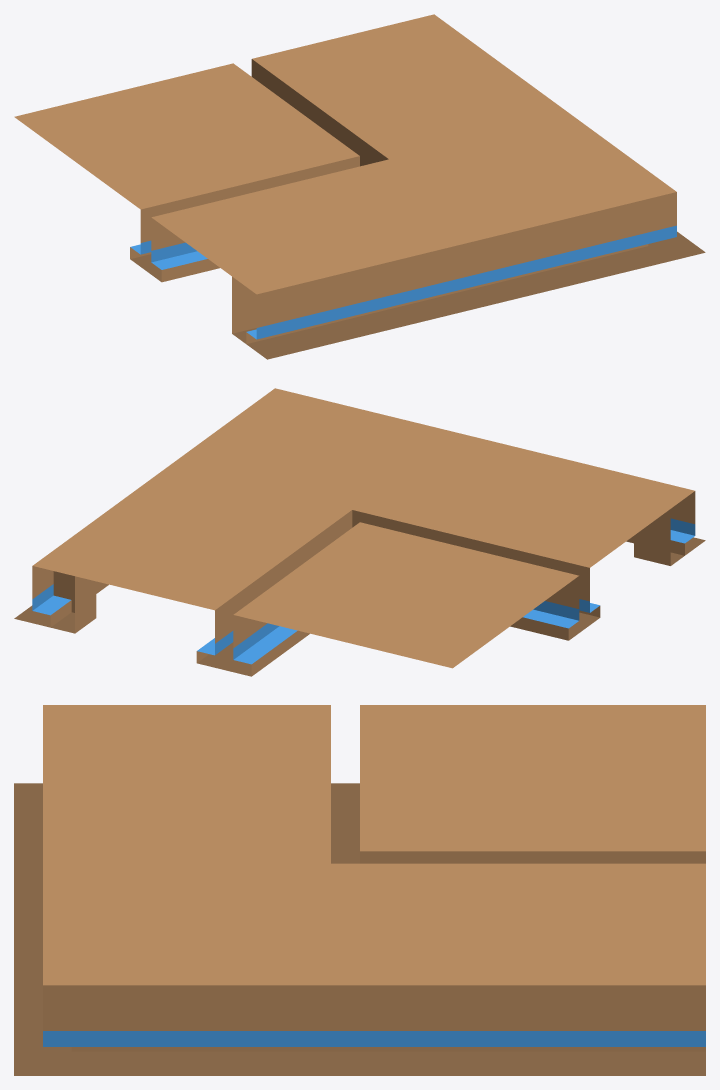
File: mesh_ceiling_03.fbx
3 views of the same model, one above another, from view 1: azimuth 30°, elevation 25°; view 2: azimuth 150°, elevation 25°; view 3: azimuth 270°, elevation 25° (orthographic). The views are drawn at different scales.
Visible parts, largest first — view 1: mesh_ceiling_03; view 2: mesh_ceiling_03; view 3: mesh_ceiling_03.
Boxes of the visible parts, bbox=[...] form: mesh_ceiling_03: bbox=[14, 14, 705, 359]; mesh_ceiling_03: bbox=[14, 388, 705, 676]; mesh_ceiling_03: bbox=[14, 705, 705, 1075].
Bounding box in the file's own units: 3 × 3 × 0.375.
